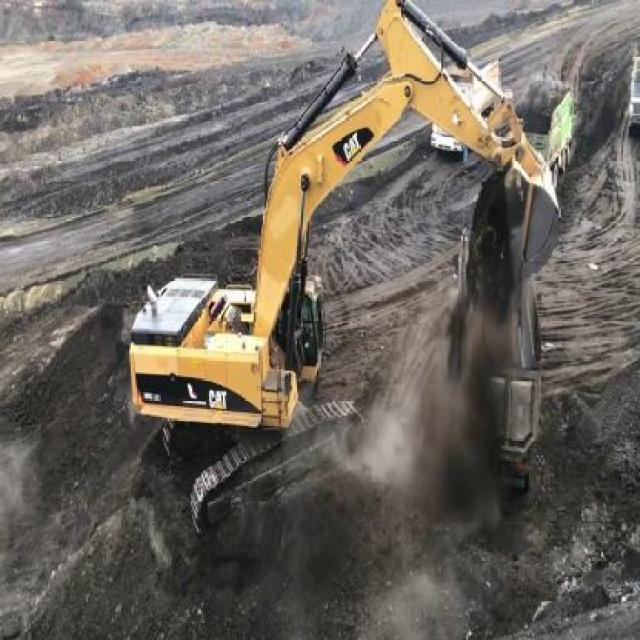dump_truck: (453, 230, 539, 492), (429, 58, 503, 154), (520, 80, 572, 182), (626, 43, 640, 125)
excavator: (128, 0, 562, 543)
